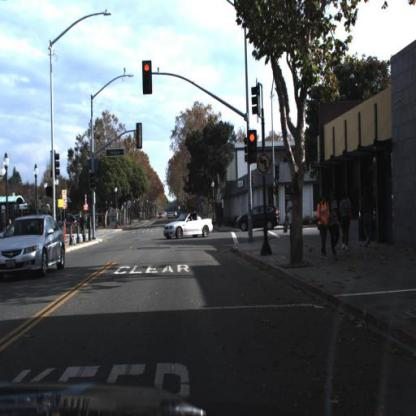car: (1, 213, 68, 277), (163, 208, 218, 238), (236, 203, 281, 235), (235, 204, 282, 233)
pedestrian: (358, 180, 378, 253), (339, 188, 355, 256), (329, 191, 342, 255), (317, 193, 329, 257), (285, 193, 296, 253), (78, 211, 87, 238)
trafficLight-Red: (141, 60, 155, 96), (246, 129, 258, 165), (249, 131, 257, 162)
truck: (1, 203, 52, 221)
